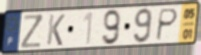1: (83, 12, 94, 46)
9: (101, 9, 122, 47), (132, 7, 153, 45)
K: (45, 13, 66, 47)
P: (154, 7, 180, 42)
Z: (21, 13, 45, 50)
